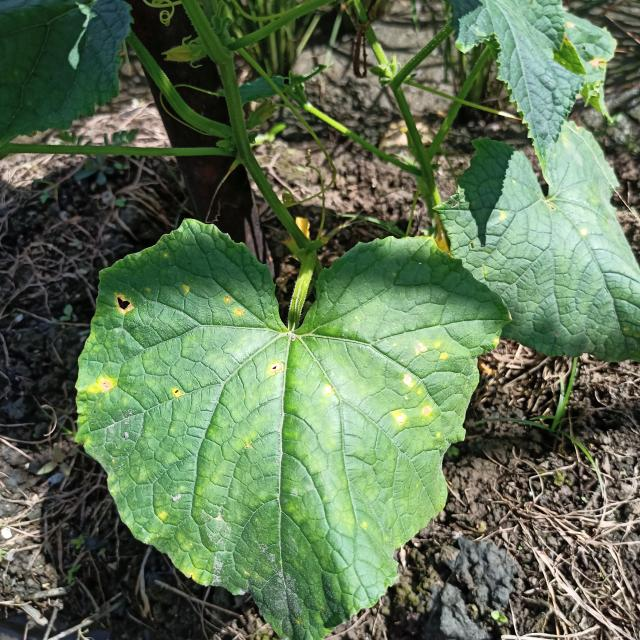disease_cucumber: (389, 337, 449, 426), (85, 374, 124, 396), (225, 295, 245, 320), (114, 293, 135, 316), (266, 362, 286, 377), (322, 382, 335, 397), (172, 389, 182, 398)
